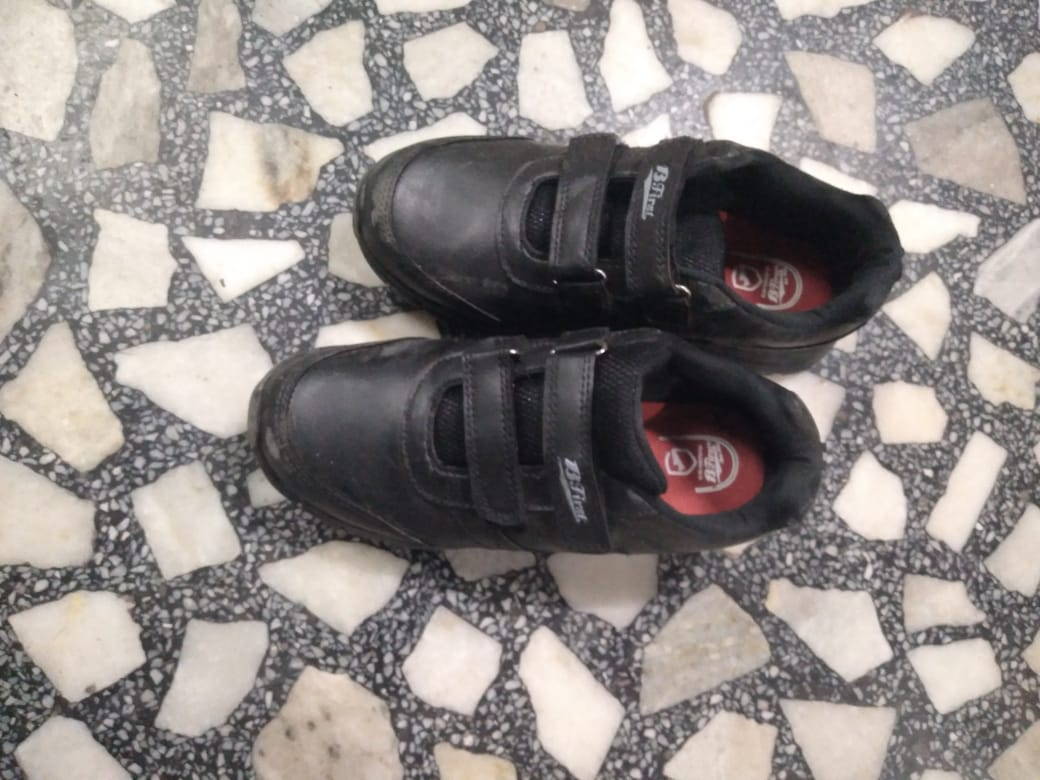Footwear: (218, 119, 941, 594), (247, 325, 834, 571)
